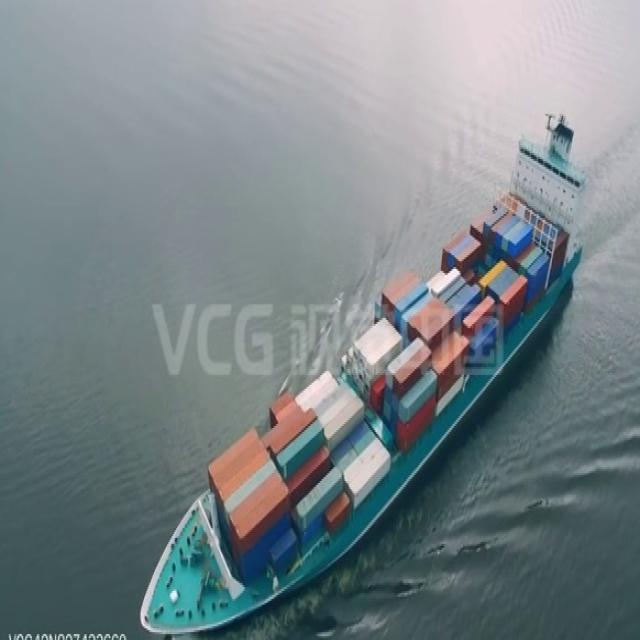cargoship: (136, 102, 583, 640)
